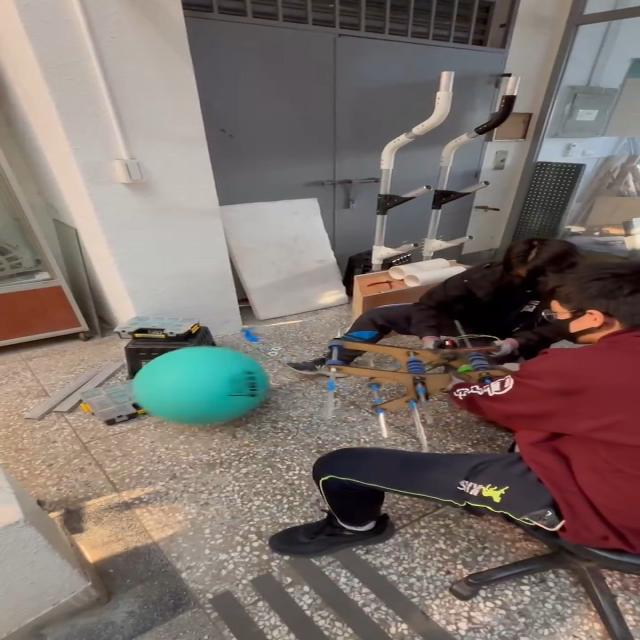ALGAE: (130, 344, 270, 426)
